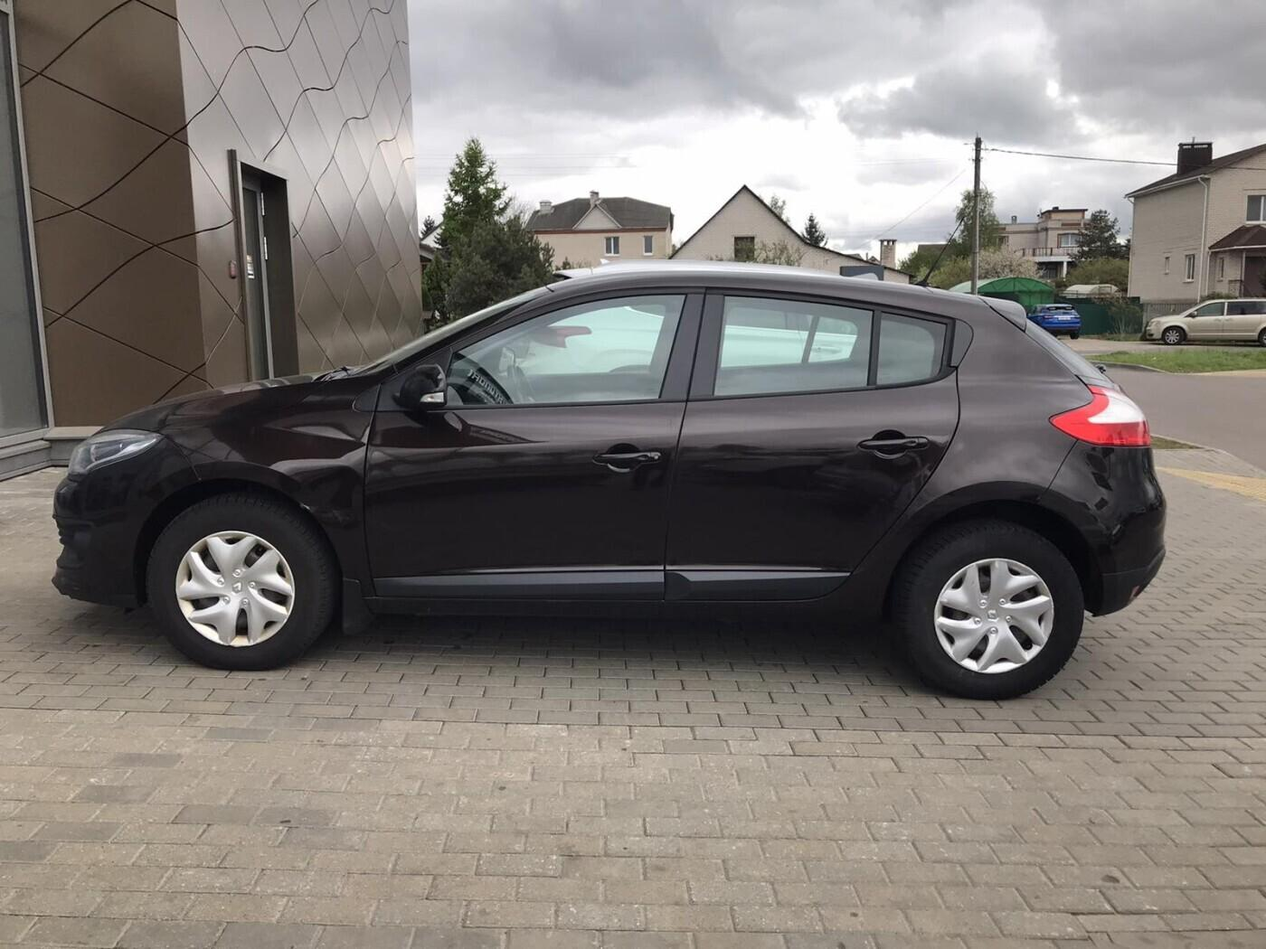Megane_2012-2014: (45, 261, 1194, 702)
